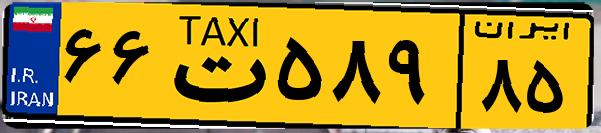5: (270, 28, 330, 110), (525, 38, 570, 115)
6: (57, 26, 110, 100), (110, 28, 158, 98)
8: (330, 28, 385, 110), (475, 38, 525, 113)
9: (385, 28, 445, 110)
ت: (158, 12, 270, 120)
